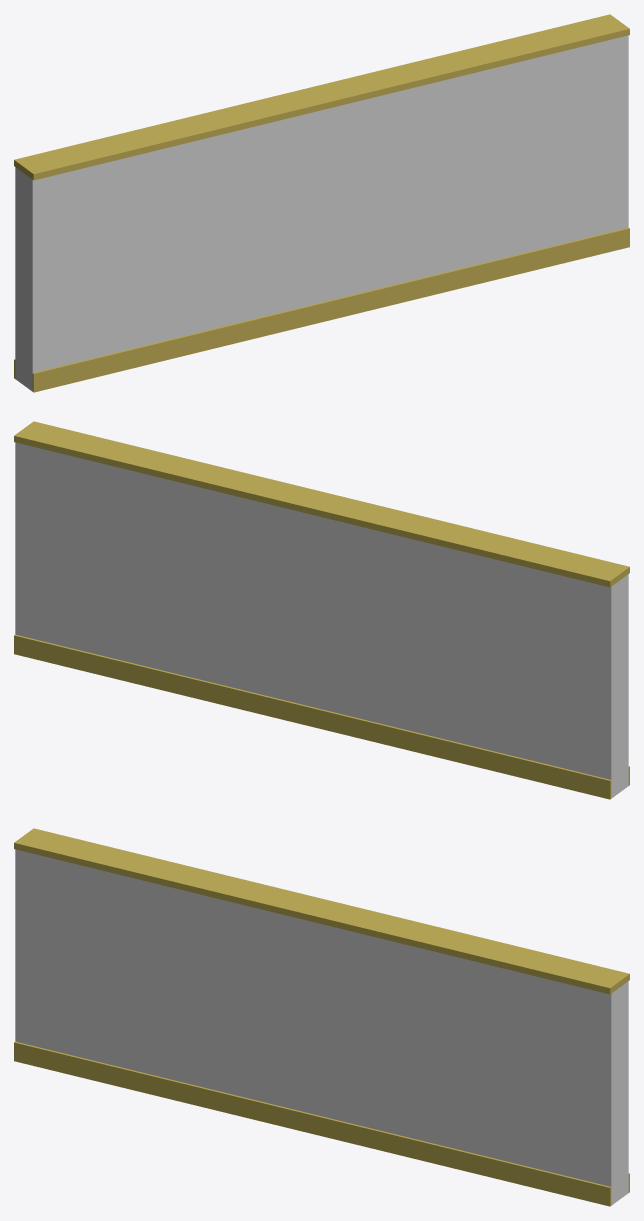
Rendered from MOD_23_HalfWall_Partition.fbx.
3 renders of one model, top to bottom at view 1: azimuth 30°, elevation 25°; view 2: azimuth 150°, elevation 25°; view 3: azimuth 330°, elevation 25°, orthographic.
Parts seen in each view (by area): view 1: MOD_23_HalfWall_Partition; view 2: MOD_23_HalfWall_Partition; view 3: MOD_23_HalfWall_Partition.
Boxes of the visible parts, x1,y1,x2,y2 form: MOD_23_HalfWall_Partition: (14, 14, 629, 392); MOD_23_HalfWall_Partition: (14, 421, 629, 799); MOD_23_HalfWall_Partition: (14, 828, 629, 1206).
Bounding box in the file's own units: 4 × 1.4 × 0.23.
